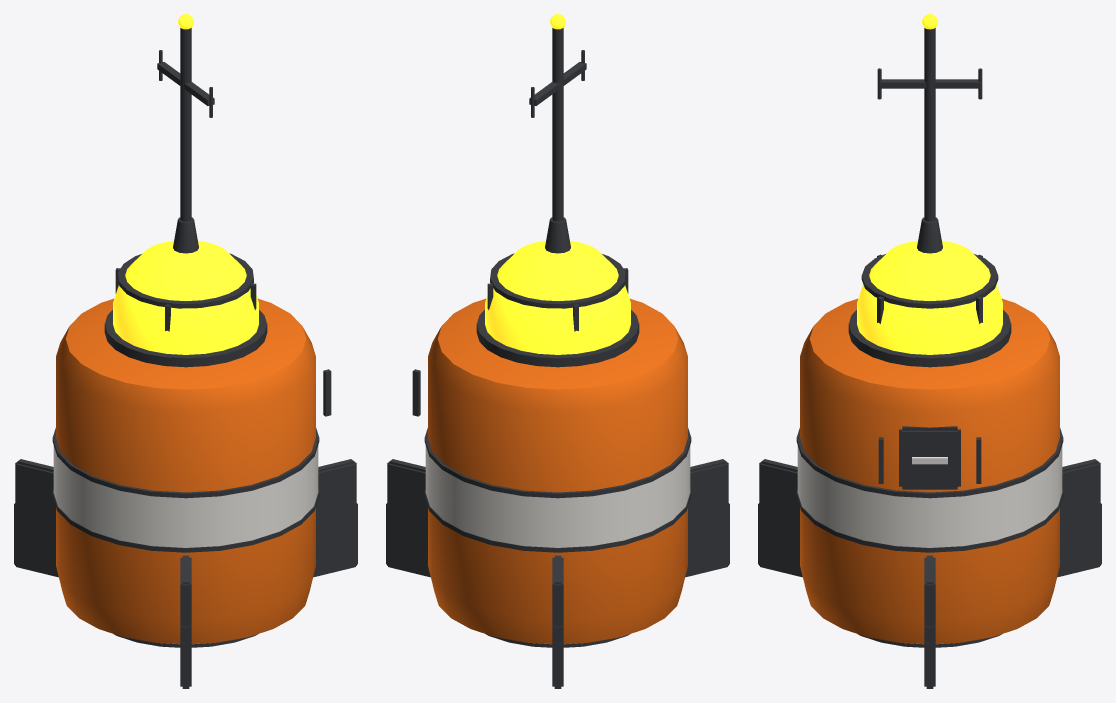
The model's file is beacon.glb.
The picture shows the model from 3 angles, left to right: view 1: azimuth 30°, elevation 25°; view 2: azimuth 150°, elevation 25°; view 3: azimuth 270°, elevation 25°; orthographic projection.
Parts seen in each view (by area): view 1: beacon_beacon_orange, beacon_beacon_dark, beacon_beacon_white, beacon_beacon_amber; view 2: beacon_beacon_orange, beacon_beacon_dark, beacon_beacon_white, beacon_beacon_amber; view 3: beacon_beacon_orange, beacon_beacon_dark, beacon_beacon_white, beacon_beacon_amber.
Boxes of the visible parts, x1,y1,x2,y2 form: beacon_beacon_orange: (56,298,315,644); beacon_beacon_dark: (14,28,357,688); beacon_beacon_white: (53,446,318,547); beacon_beacon_amber: (113,14,258,354); beacon_beacon_orange: (428,298,687,644); beacon_beacon_dark: (386,28,729,688); beacon_beacon_white: (425,446,690,547); beacon_beacon_amber: (485,14,630,354); beacon_beacon_orange: (800,298,1059,644); beacon_beacon_dark: (758,28,1101,688); beacon_beacon_white: (797,446,1062,547); beacon_beacon_amber: (857,14,1002,354).
Bounding box in the file's own units: 2.03 × 4.02 × 2.12.
